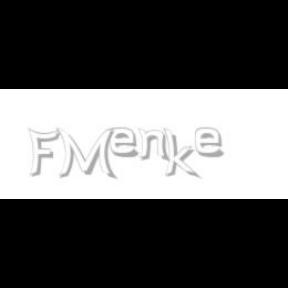F: (27, 128, 59, 178)
M: (56, 128, 114, 180)
e: (110, 128, 142, 158), (196, 128, 228, 158)
k: (163, 128, 201, 180)
n: (137, 128, 171, 162)
